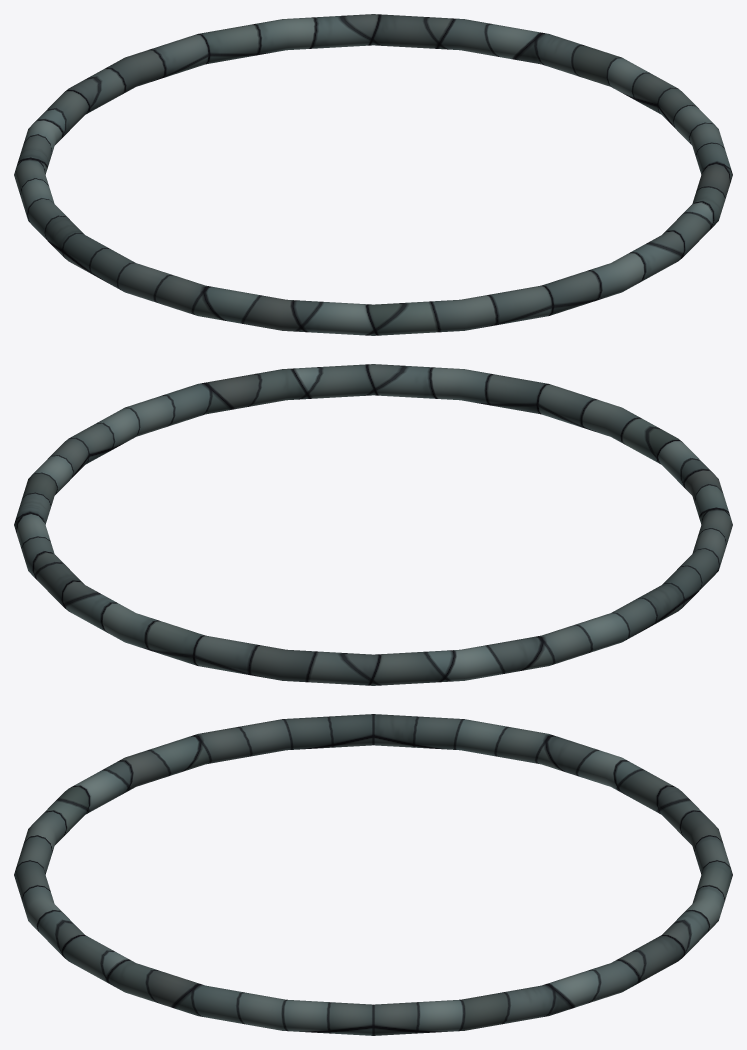
File: aro5.obj
The picture shows the model from 3 angles, top to bottom: view 1: azimuth 30°, elevation 25°; view 2: azimuth 150°, elevation 25°; view 3: azimuth 270°, elevation 25°; orthographic projection.
Visible parts, largest first — view 1: aro5; view 2: aro5; view 3: aro5.
Part boxes in pixels (x1=…): aro5: x1=14, y1=14, x2=732, y2=335; aro5: x1=14, y1=364, x2=732, y2=685; aro5: x1=14, y1=714, x2=732, y2=1035.
Bounding box in the file's own units: 72.58 × 3.18 × 72.58.
Materials: 1 (1 with a texture image).
